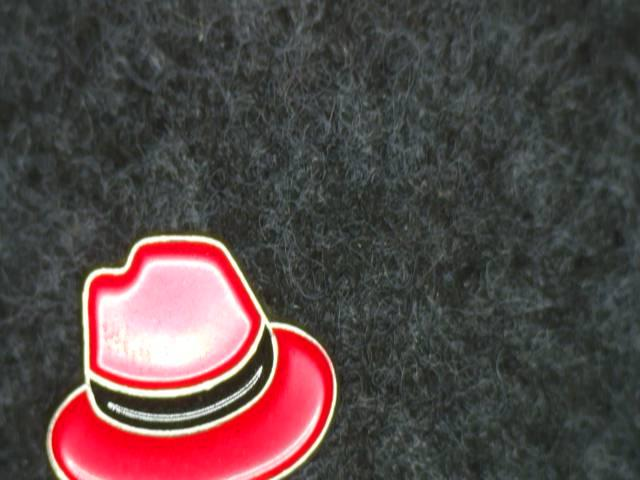Red-Hat: (27, 218, 371, 480)
